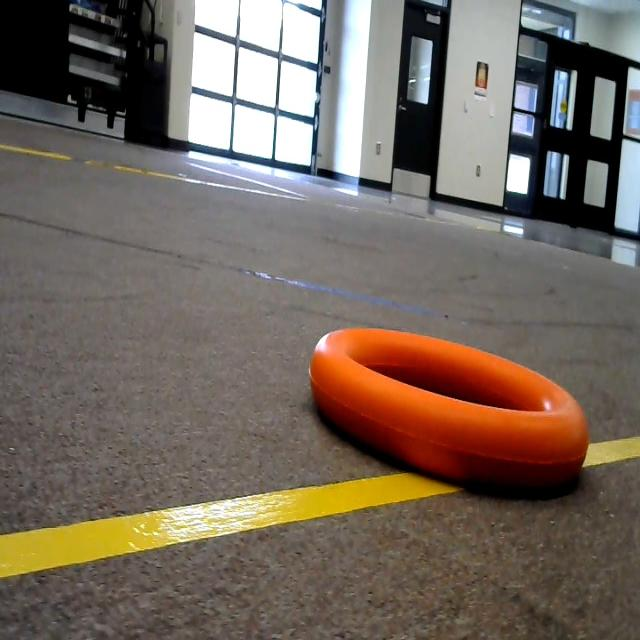note: (299, 294, 594, 524)
